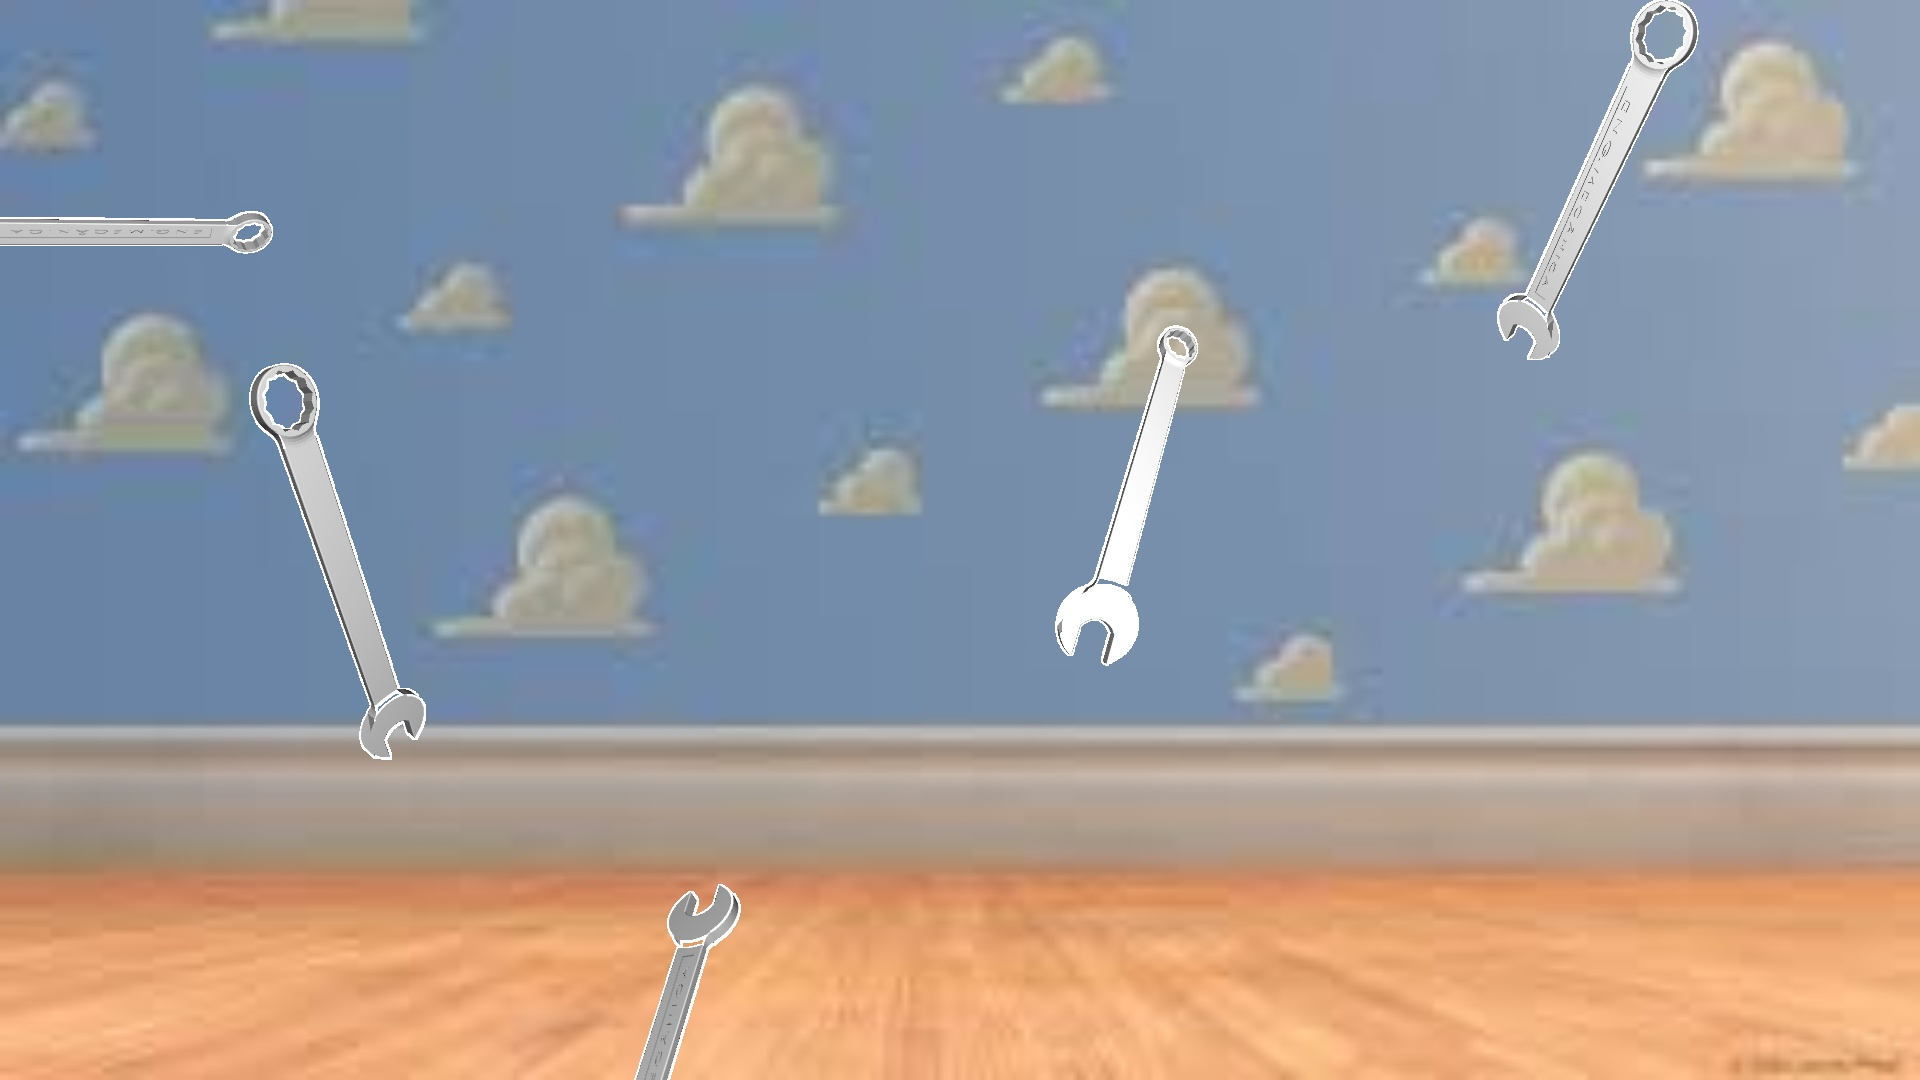Mixed Key: (1497, 0, 1698, 359), (249, 363, 425, 760), (1055, 324, 1197, 665), (634, 884, 740, 1079), (0, 211, 272, 253)
